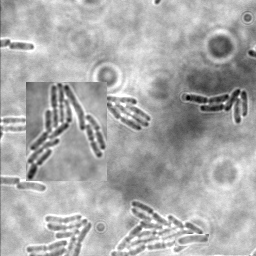Dividing: (8, 41, 35, 52)
Microcolony: (26, 82, 107, 181), (109, 200, 205, 255), (25, 212, 94, 255), (184, 89, 248, 126), (107, 96, 150, 132), (175, 234, 209, 246), (16, 182, 48, 193)
